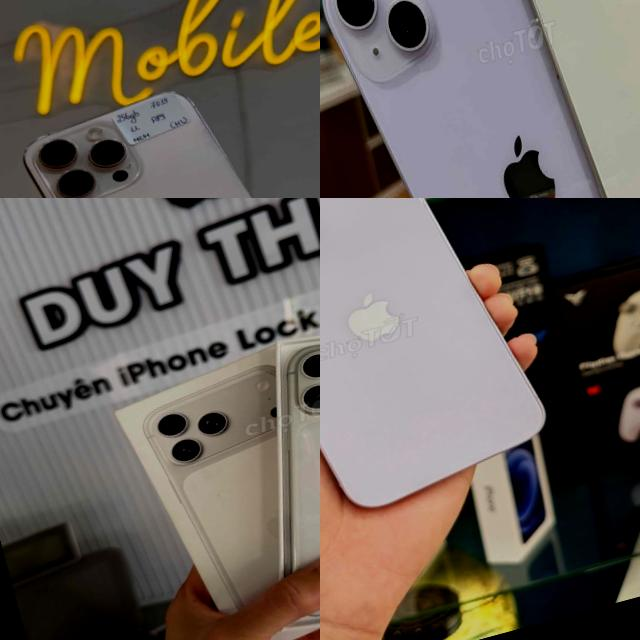gen_14: (320, 198, 568, 542), (320, 0, 627, 198), (487, 0, 640, 198)
gen_16: (0, 55, 320, 198)
gen_17: (219, 299, 320, 640)
